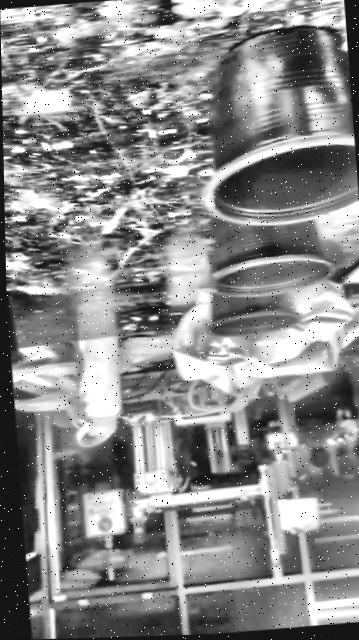pot: (194, 23, 359, 229), (210, 219, 332, 296), (207, 293, 298, 336), (7, 293, 22, 364)
